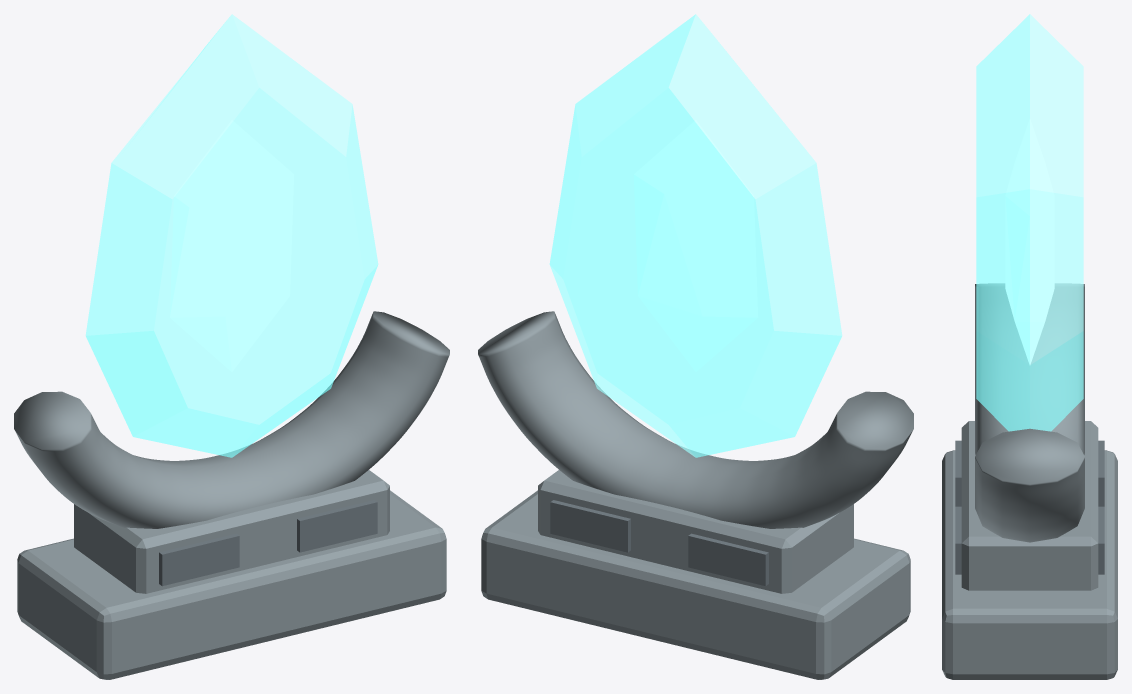
The model's file is Prop_04_水晶魔镜.glb.
3 renders of one model, left to right at view 1: azimuth 30°, elevation 25°; view 2: azimuth 150°, elevation 25°; view 3: azimuth 270°, elevation 25°, orthographic.
Visible parts, largest first — view 1: CrystalGem, Cube, StoneCradle, Icosphere, Cube.001, Cube.003, Cube.002; view 2: CrystalGem, Cube, StoneCradle, Icosphere, Cube.001, Cube.005, Cube.004; view 3: CrystalGem, StoneCradle, Cube, Cube.001, Icosphere, Cube.003, Cube.005, Cube.002, Cube.004.
Part boxes in pixels (box(x1,y1,x2,y2)): CrystalGem: box(85, 14, 378, 457); Cube: box(17, 490, 446, 679); StoneCradle: box(14, 311, 449, 528); Icosphere: box(170, 120, 293, 371); Cube.001: box(74, 470, 389, 593); Cube.003: box(297, 500, 377, 552); Cube.002: box(159, 533, 239, 586); CrystalGem: box(549, 14, 842, 457); Cube: box(481, 490, 910, 679); StoneCradle: box(478, 311, 913, 528); Icosphere: box(634, 120, 757, 371); Cube.001: box(538, 470, 853, 593); Cube.005: box(550, 500, 630, 552); Cube.004: box(688, 533, 768, 586); CrystalGem: box(976, 14, 1083, 431); StoneCradle: box(975, 283, 1084, 542); Cube: box(942, 450, 1117, 679); Cube.001: box(961, 421, 1098, 590); Icosphere: box(1005, 119, 1054, 364); Cube.003: box(955, 506, 961, 574); Cube.005: box(1098, 506, 1104, 574); Cube.002: box(955, 440, 961, 506); Cube.004: box(1098, 440, 1104, 506).
Size of the model in its own units: 1.93 by 2.65 by 0.72.
